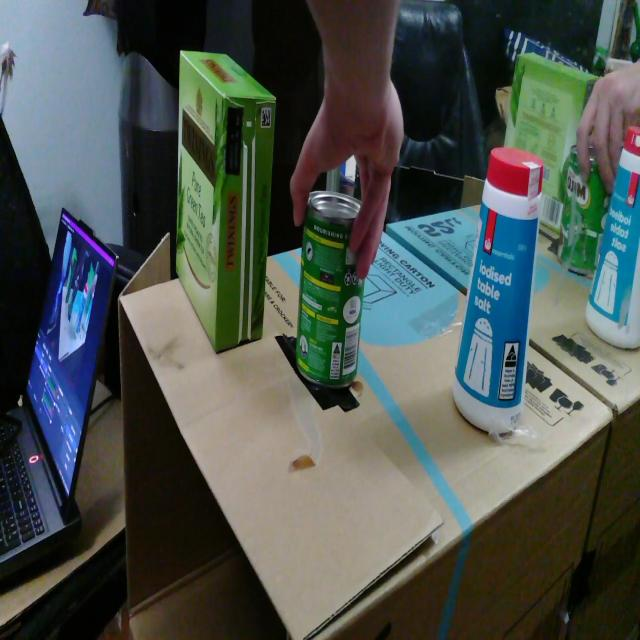nestle_milo_tin: (296, 191, 365, 388)
twinings_greentea_box: (176, 51, 276, 351)
woolworths_salt_bottle: (452, 147, 543, 434)
